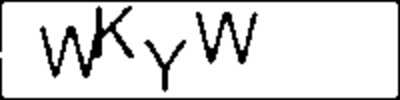K: (91, 3, 139, 61)
W: (33, 17, 106, 82), (191, 8, 263, 68)
Y: (140, 37, 191, 91)
